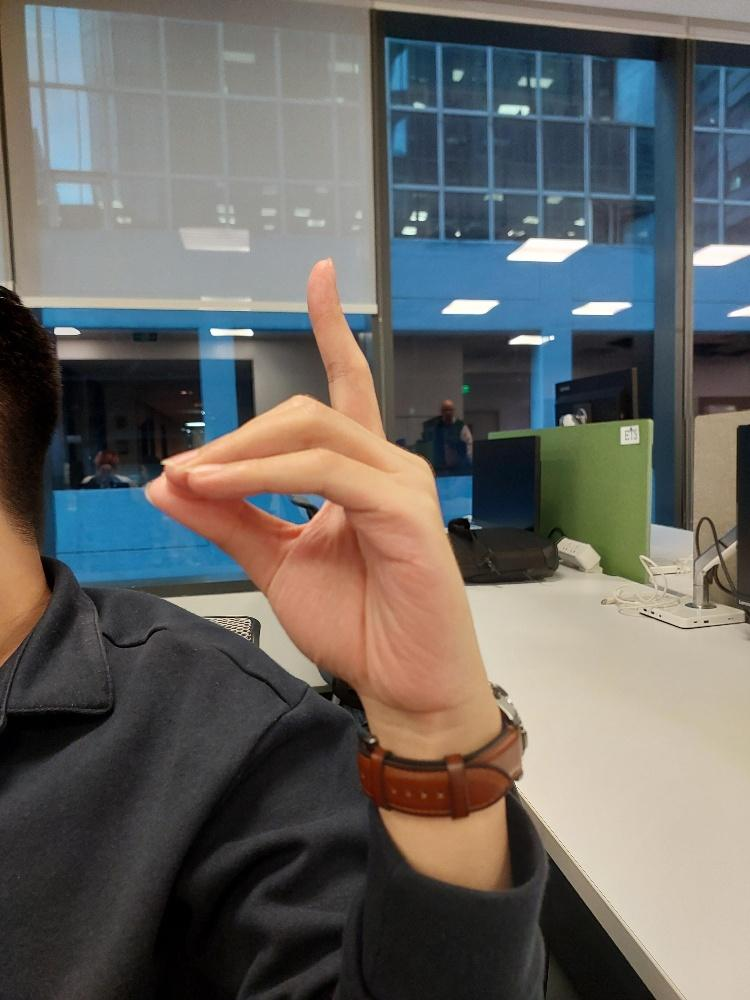d: (144, 257, 477, 698)
